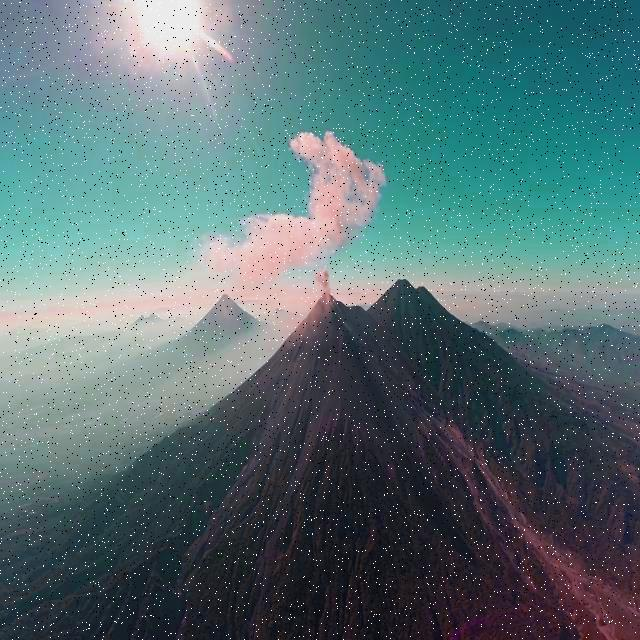Plume: (198, 125, 386, 288), (316, 264, 330, 294)
Summit: (309, 290, 347, 314)
